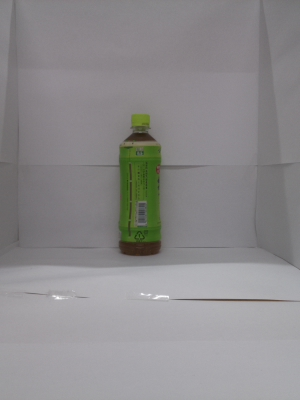おーいお茶: (111, 107, 173, 263)
